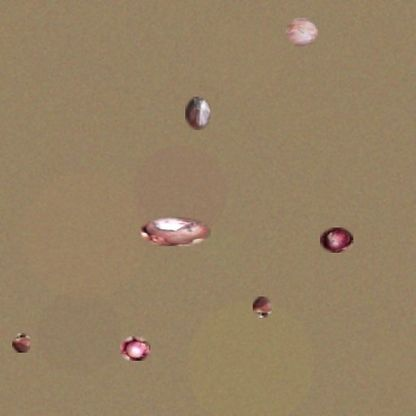damaged: (137, 217, 210, 246)
healthy: (320, 227, 353, 253), (120, 336, 150, 361)
rotten: (286, 18, 318, 46), (185, 97, 210, 130)
sprouted: (253, 297, 271, 318), (12, 333, 30, 353)
